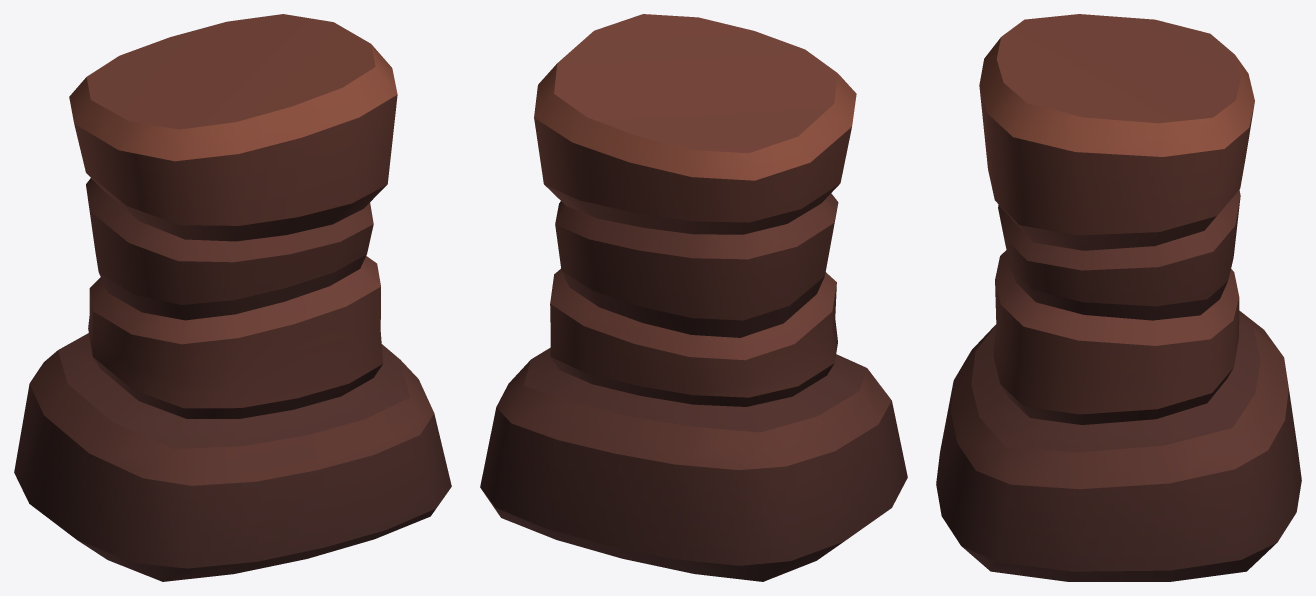
The model's file is rock_big_B_4.glb.
The picture shows the model from 3 angles, left to right: view 1: azimuth 30°, elevation 25°; view 2: azimuth 150°, elevation 25°; view 3: azimuth 270°, elevation 25°; orthographic projection. The views are drawn at different scales.
Visible parts, largest first — view 1: rock_big_B_4; view 2: rock_big_B_4; view 3: rock_big_B_4.
Boxes of the visible parts, x1=… form: rock_big_B_4: x1=14, y1=14, x2=451, y2=581; rock_big_B_4: x1=480, y1=14, x2=907, y2=581; rock_big_B_4: x1=936, y1=14, x2=1301, y2=581.
Size of the model in its own units: 5.32 by 6.37 by 4.65.
Materials: 1 (1 with a texture image).
